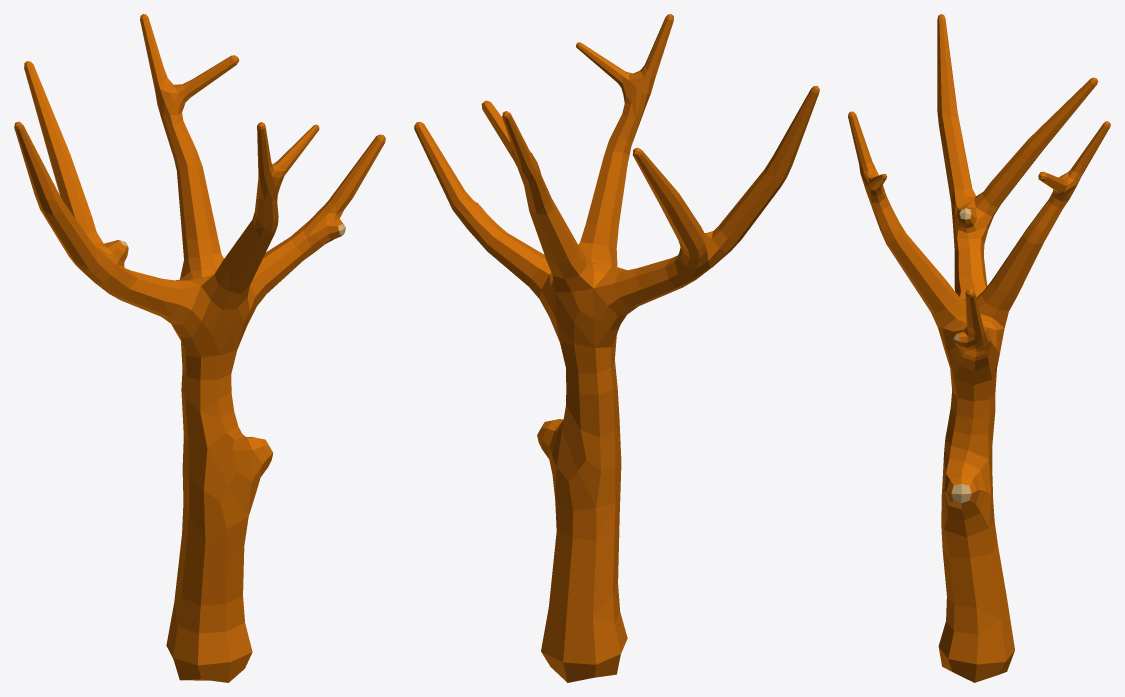
File: DeadTree03.fbx
The picture shows the model from 3 angles, left to right: view 1: azimuth 30°, elevation 25°; view 2: azimuth 150°, elevation 25°; view 3: azimuth 270°, elevation 25°; orthographic projection. The views are drawn at different scales.
Visible parts, largest first — view 1: Plane; view 2: Plane; view 3: Plane.
Part boxes in pixels (x1,y1,x2,y2): Plane: (14, 14, 385, 682); Plane: (414, 14, 819, 682); Plane: (848, 14, 1110, 682).
Bounding box in the file's own units: 331 × 510 × 214.
